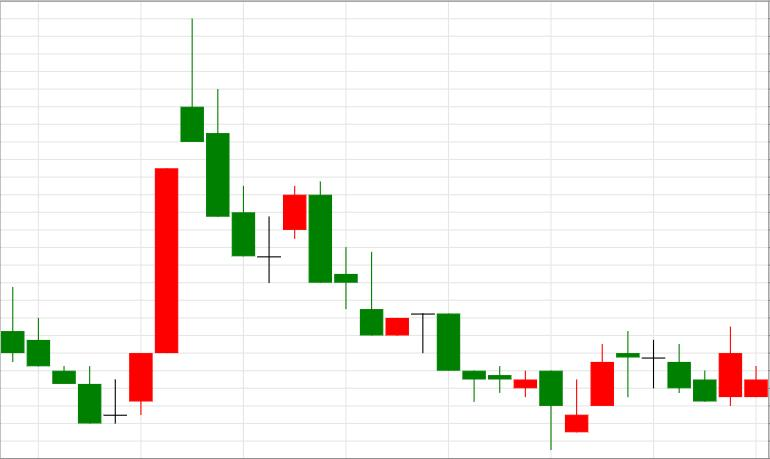hammer_rise: (309, 181, 563, 450)
morning_star_rise: (309, 180, 614, 450)
shooting_star_fall: (78, 18, 204, 423)
